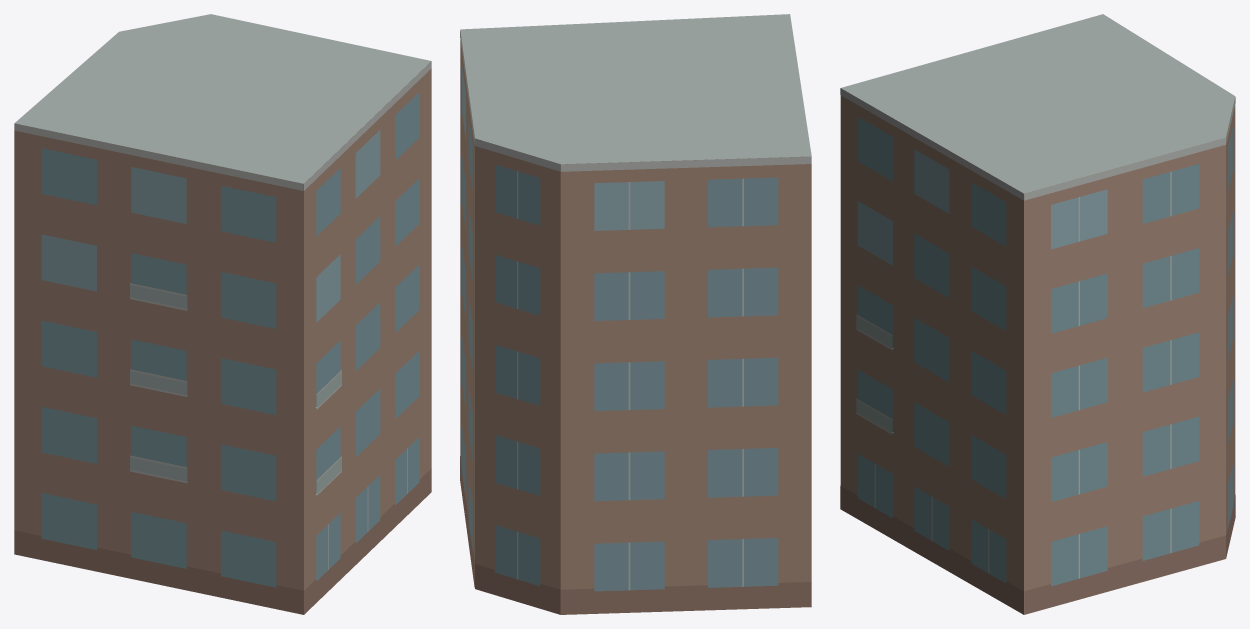
File: survey-upis-32782879.glb
3 renders of one model, left to right at view 1: azimuth 30°, elevation 25°; view 2: azimuth 150°, elevation 25°; view 3: azimuth 270°, elevation 25°, orthographic. The views are drawn at different scales.
Visible parts, largest first — view 1: survey-upis-32782879.tmp; view 2: survey-upis-32782879.tmp; view 3: survey-upis-32782879.tmp.
Boxes of the visible parts, x1=… form: survey-upis-32782879.tmp: x1=14, y1=14, x2=431, y2=614; survey-upis-32782879.tmp: x1=460, y1=14, x2=811, y2=614; survey-upis-32782879.tmp: x1=840, y1=14, x2=1235, y2=614.
Size of the model in its own units: 13.37 by 14.6 by 12.42.
